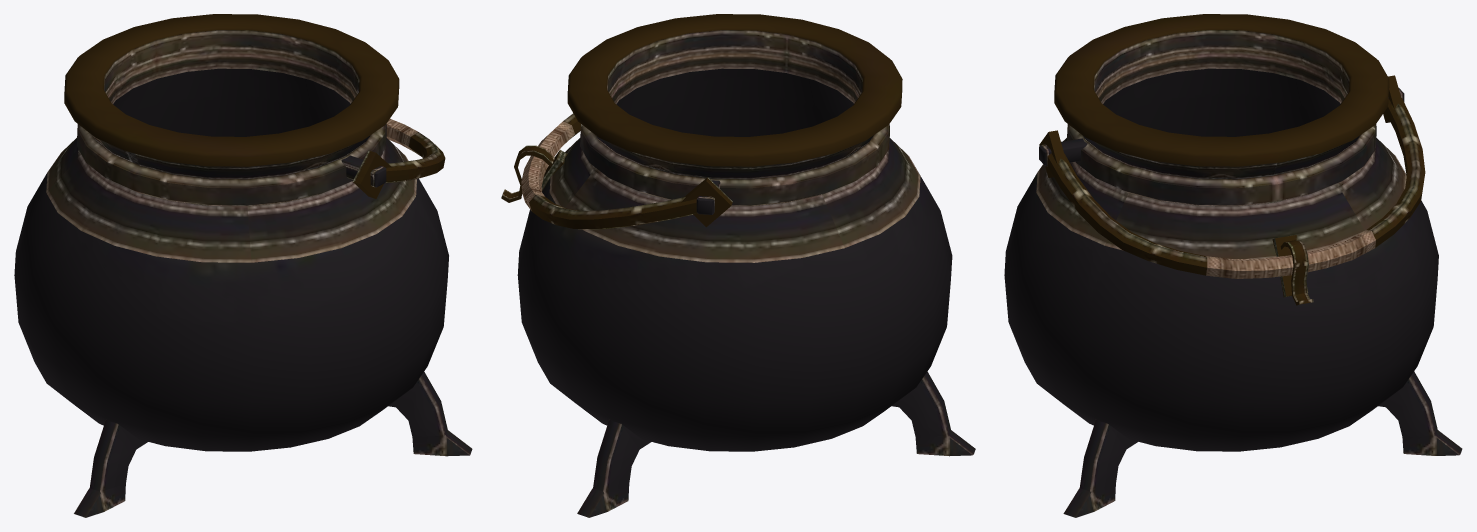
Rendered from o_mdl_env_propPotLargeA-transformed.glb.
3 views of the same model, side by side, from view 1: azimuth 30°, elevation 25°; view 2: azimuth 150°, elevation 25°; view 3: azimuth 270°, elevation 25° (orthographic).
Parts seen in each view (by area): view 1: default; view 2: default; view 3: default.
Boxes of the visible parts, bbox=[...] form: default: bbox=[14, 14, 472, 517]; default: bbox=[501, 14, 975, 517]; default: bbox=[1004, 14, 1462, 517].
Bounding box in the file's own units: 0.5661 × 0.4907 × 0.5747.
Materials: 1 (1 with a texture image).
